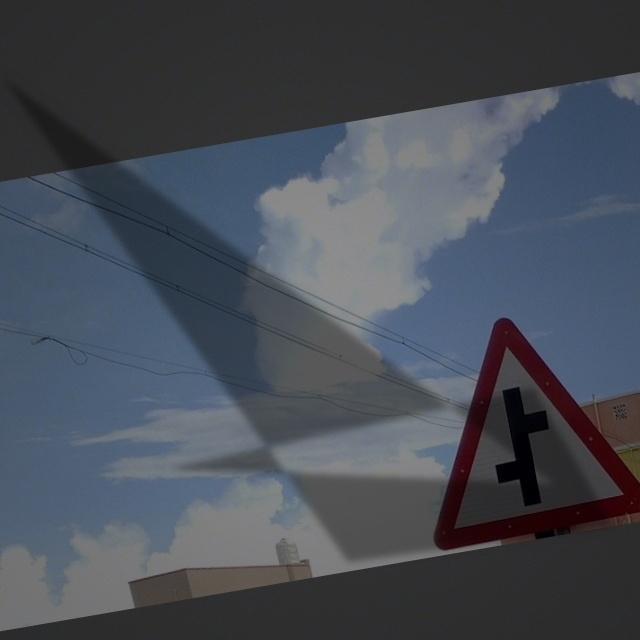Staggered_Intersection: (385, 300, 639, 546)
